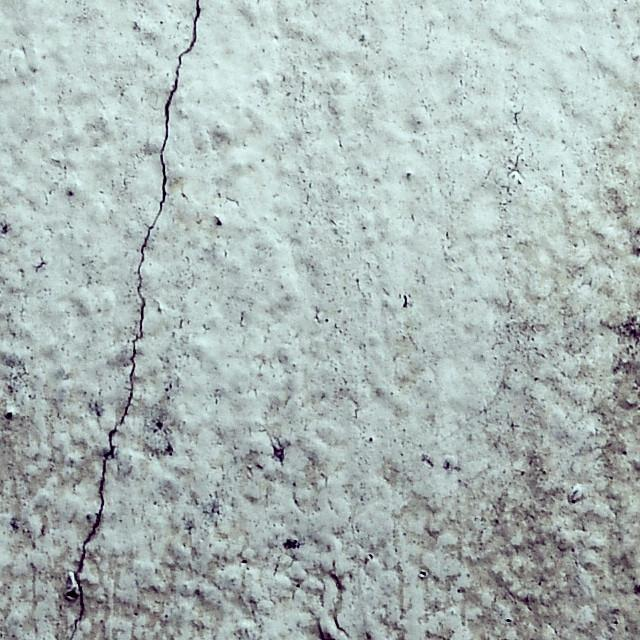diagonal crack: (69, 0, 200, 640)
